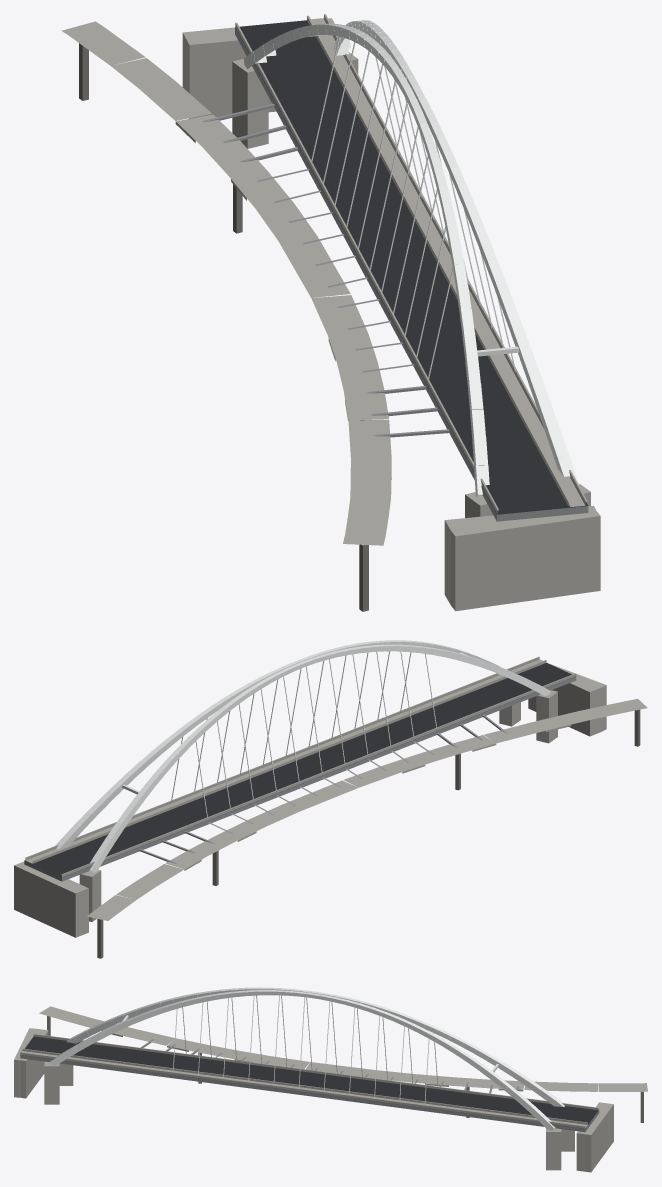
Rendered from br_r11_walterdale_lod2.gltf.
The picture shows the model from 3 angles, top to bottom: view 1: azimuth 30°, elevation 25°; view 2: azimuth 150°, elevation 25°; view 3: azimuth 270°, elevation 25°; orthographic projection. The views are drawn at different scales.
Parts seen in each view (by area): view 1: br_r11_walterdale_lod2; view 2: br_r11_walterdale_lod2; view 3: br_r11_walterdale_lod2.
Boxes of the visible parts, x1,y1,x2,y2 form: br_r11_walterdale_lod2: [61, 14, 600, 611]; br_r11_walterdale_lod2: [14, 640, 647, 958]; br_r11_walterdale_lod2: [14, 987, 647, 1172].
Size of the model in its own units: 120 by 57.51 by 249.
